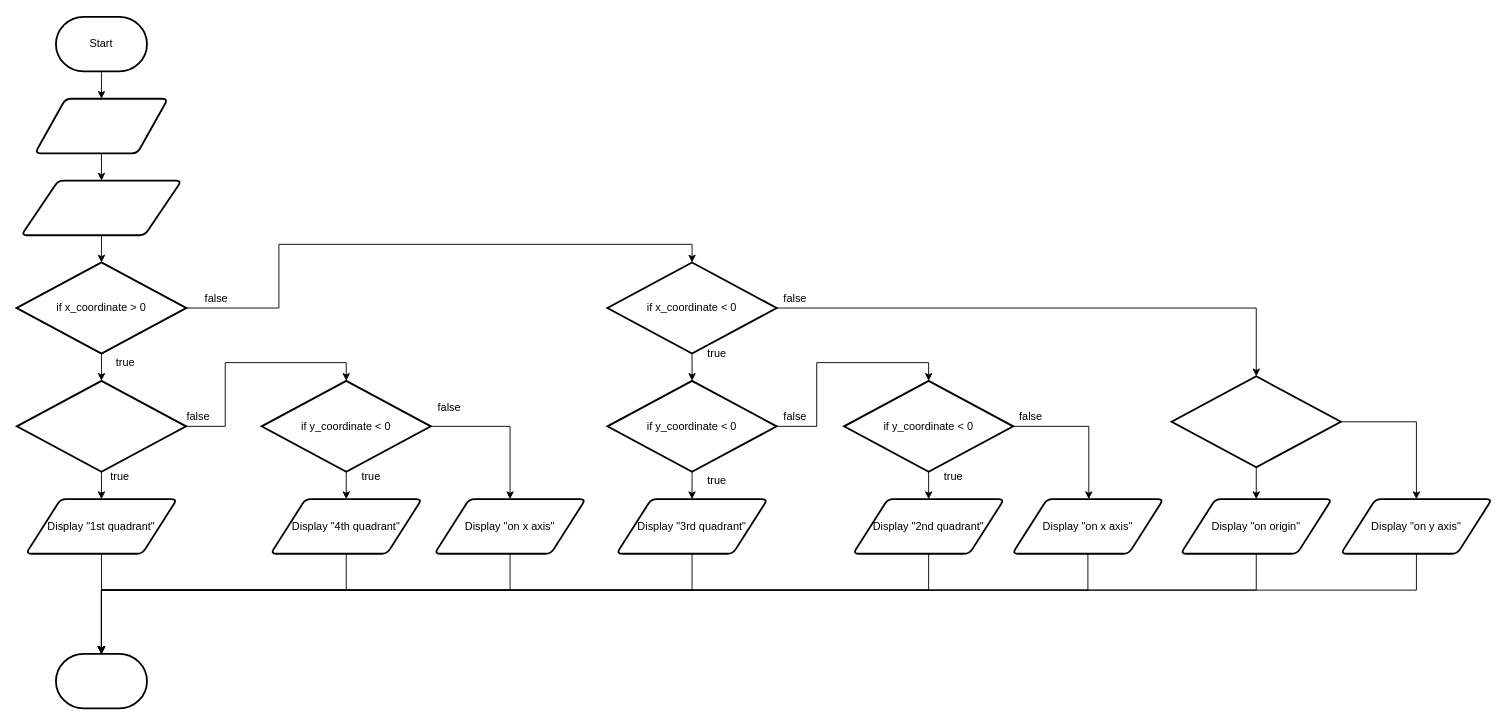
This 1508x724 diagram has some shape labels left out. The centre of each missing label's shape, as x and y in pixels:
Get x_coordinate: the point at 101,125
Get y_coordinate: the point at 101,207
if y_coordinate == 0: the point at 1255,421
if y_coordinate > 0: the point at 101,425
Stop: the point at 101,680
